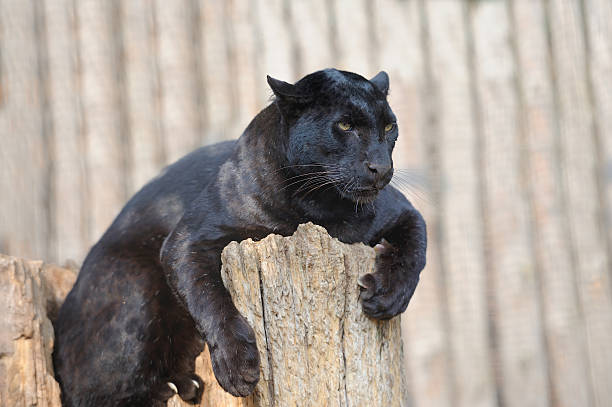panther: (245, 51, 425, 225)
